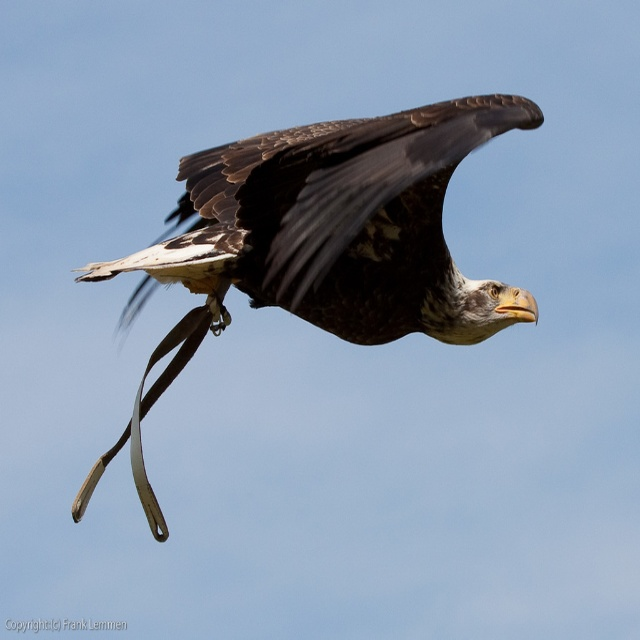Eagle: (72, 92, 544, 542)
